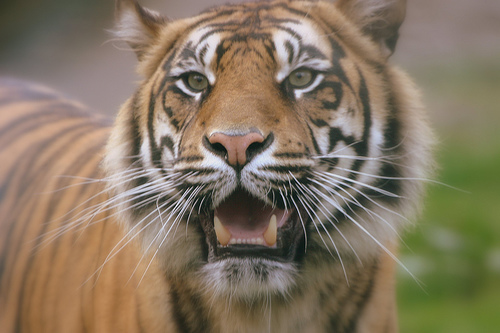Tigre: (92, 11, 431, 317)
